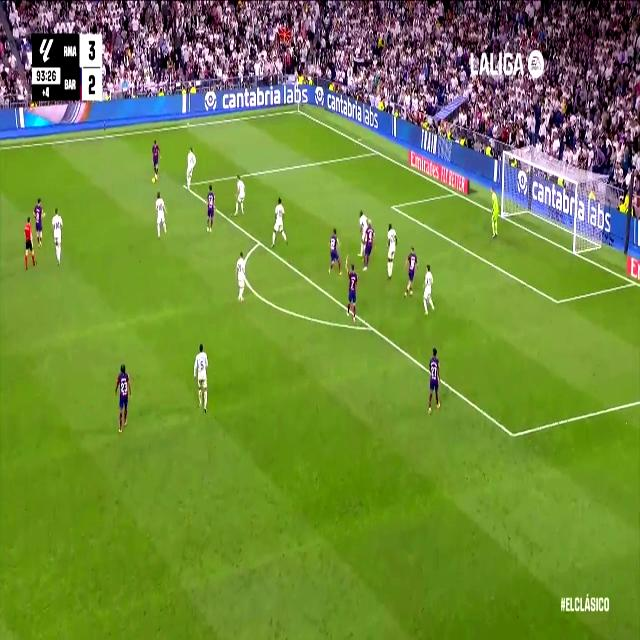bigarea_bottom_inner: (507, 419, 519, 449)
bigarea_top_inner: (389, 198, 397, 215)
bigarea_top_outter: (372, 143, 381, 158)
bottom_arc_area_intersection: (366, 316, 376, 337)
corner: (294, 105, 302, 115)
smallarea_bottom_inner: (552, 291, 562, 312)
smallarea_bottom_outter: (629, 274, 639, 291)
top_arc_area_intersection: (254, 232, 264, 251)
